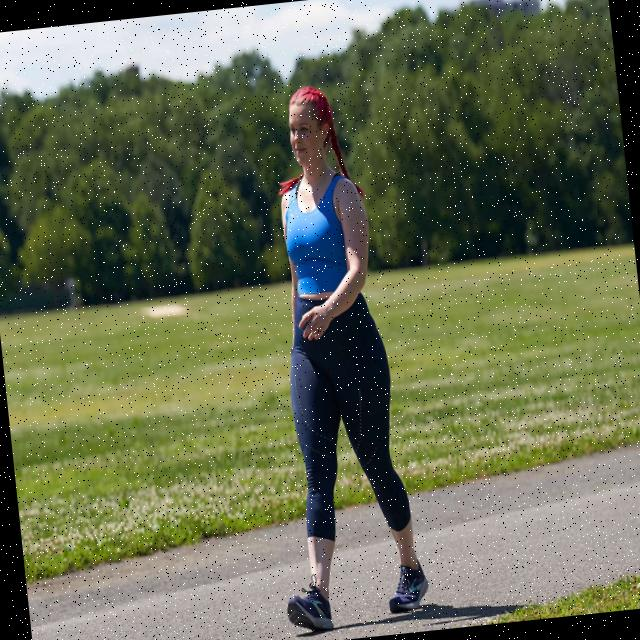Person: (233, 80, 433, 634)
